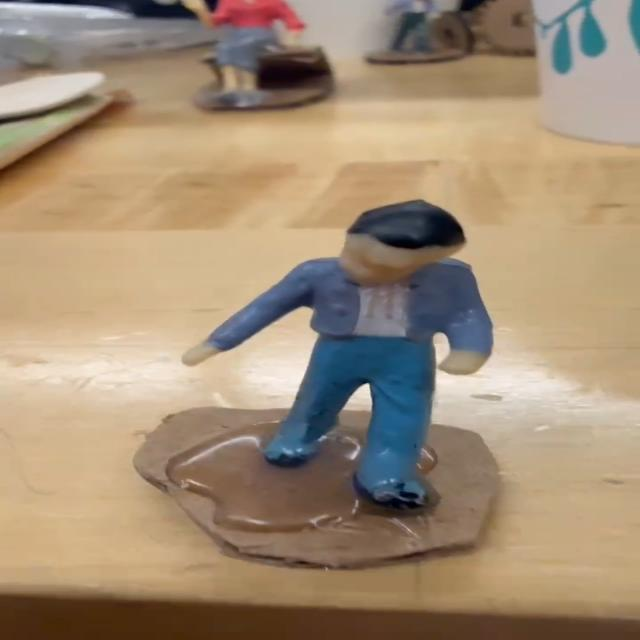Authorized: (175, 197, 504, 514)
